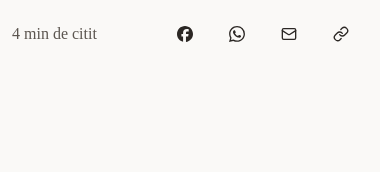
Test: ShareLinks — THE LINE, on the real stylesheet › at a phone’s column (390) a FAILED copy moves no control and not the reading time — the sentence on the line under them, inside the row — and the line keeps it
Step 1. Click the button named "Copiază linkul" → (341, 34), box [319, 12, 363, 56]
Wait 60150 ms
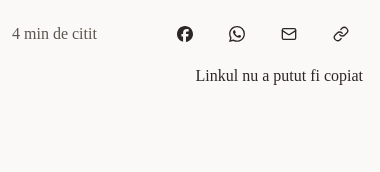
Now the text "Linkul nu a putut fi copiat" is shown, box [196, 67, 363, 84]
